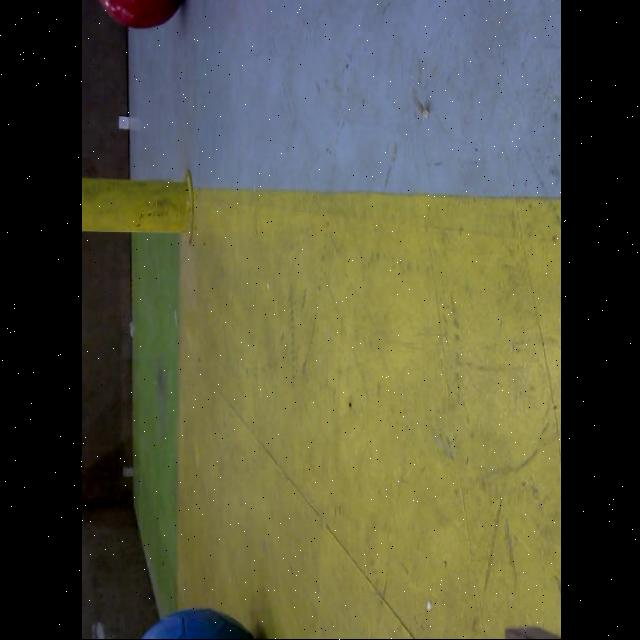B: (129, 606, 259, 640)
R: (90, 1, 184, 30)
